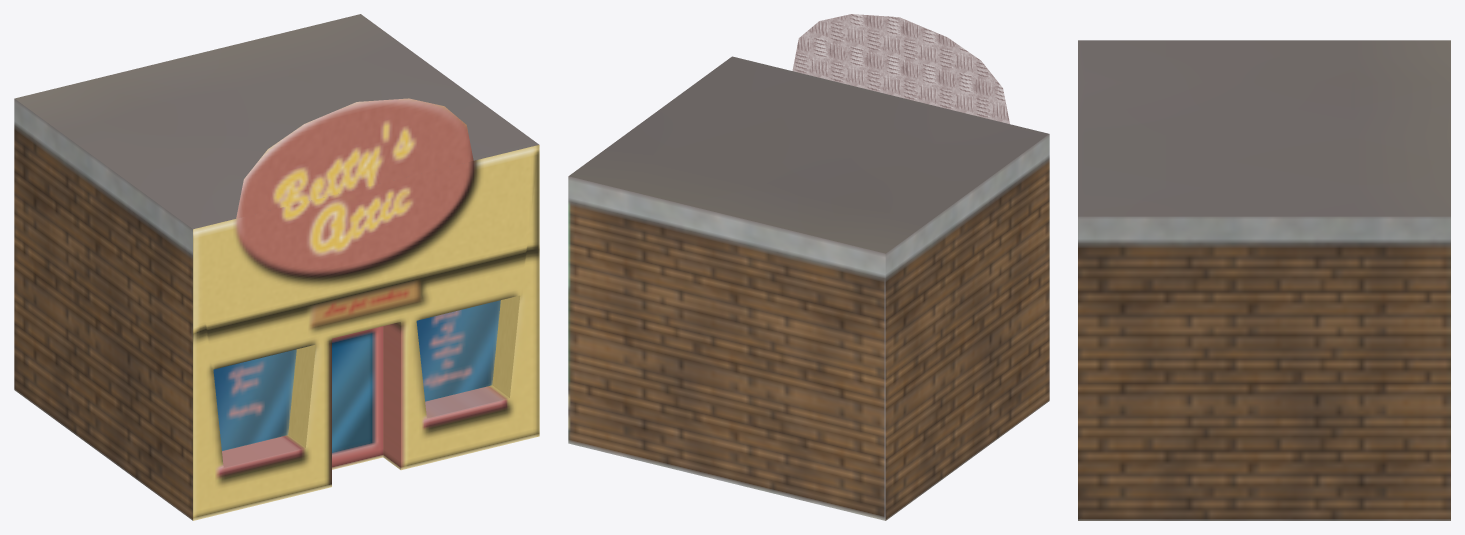
Rendered from build_3.glb.
3 views of the same model, side by side, from view 1: azimuth 30°, elevation 25°; view 2: azimuth 150°, elevation 25°; view 3: azimuth 270°, elevation 25° (orthographic). The views are drawn at different scales.
Parts seen in each view (by area): view 1: build_3; view 2: build_3; view 3: build_3.
Boxes of the visible parts, x1,y1,x2,y2 form: build_3: (14,14,539,520); build_3: (568,14,1049,520); build_3: (1078,40,1450,520).
Bounding box in the file's own units: 895 × 936 × 800.
Materials: 4 (4 with a texture image).
